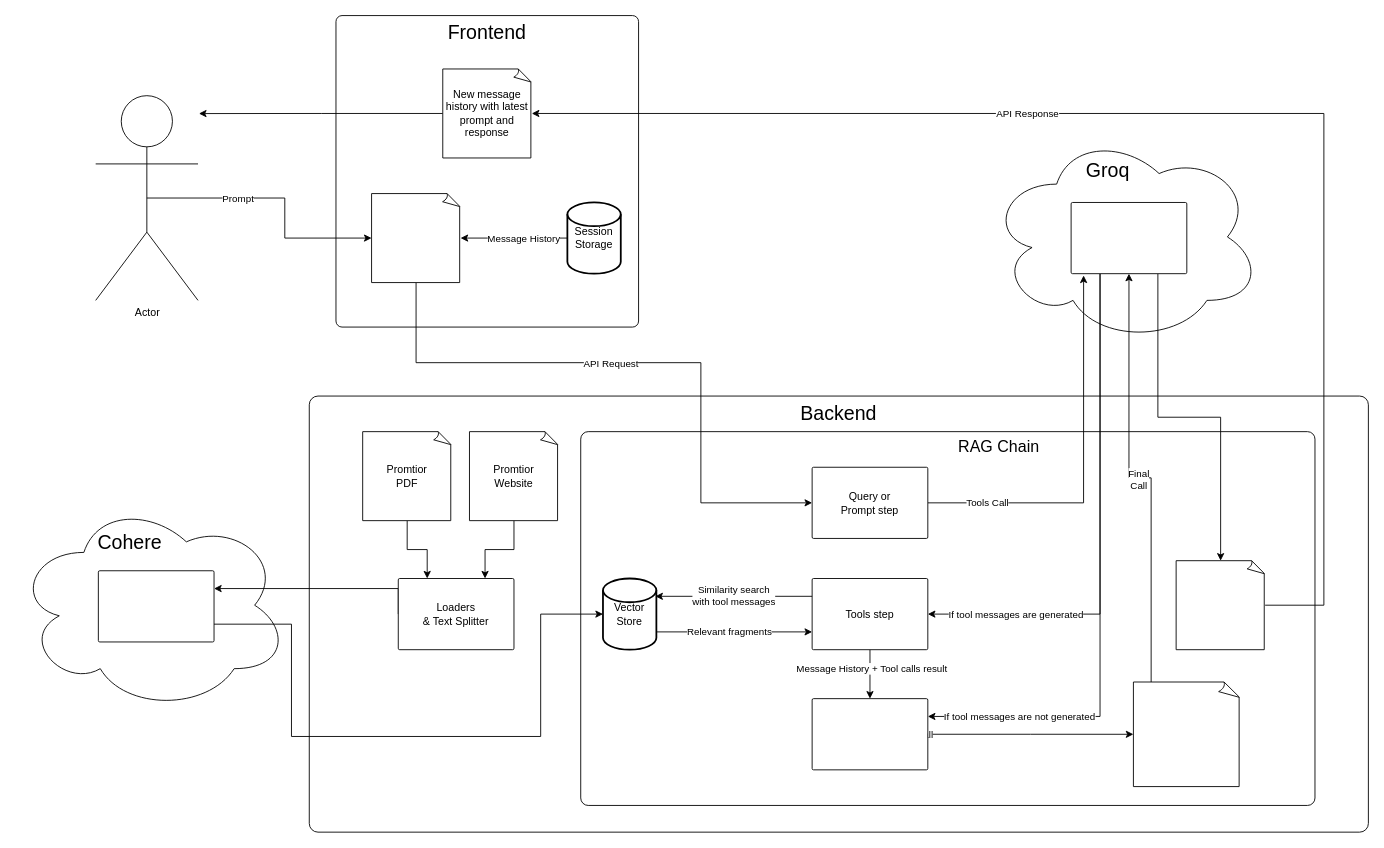
This 1384x848 diagram has some shape labels left out. The shapes that lost their labels are listed below. From the top down, each one's centre as x and y in pixels, then its label:
At point 416,238: "Prompt appended to Message History".
At point 1128,238: "llama3-70b-8192 LLM".
At point 155,606: "embed-english-v3.0 embeddings LLM".
At point 1220,605: "RAG Chain Response".
At point 869,734: "Generate step".
At point 1186,734: "Final Prompt: System Prompt + Relevant Fragments + Message History + New Message".
